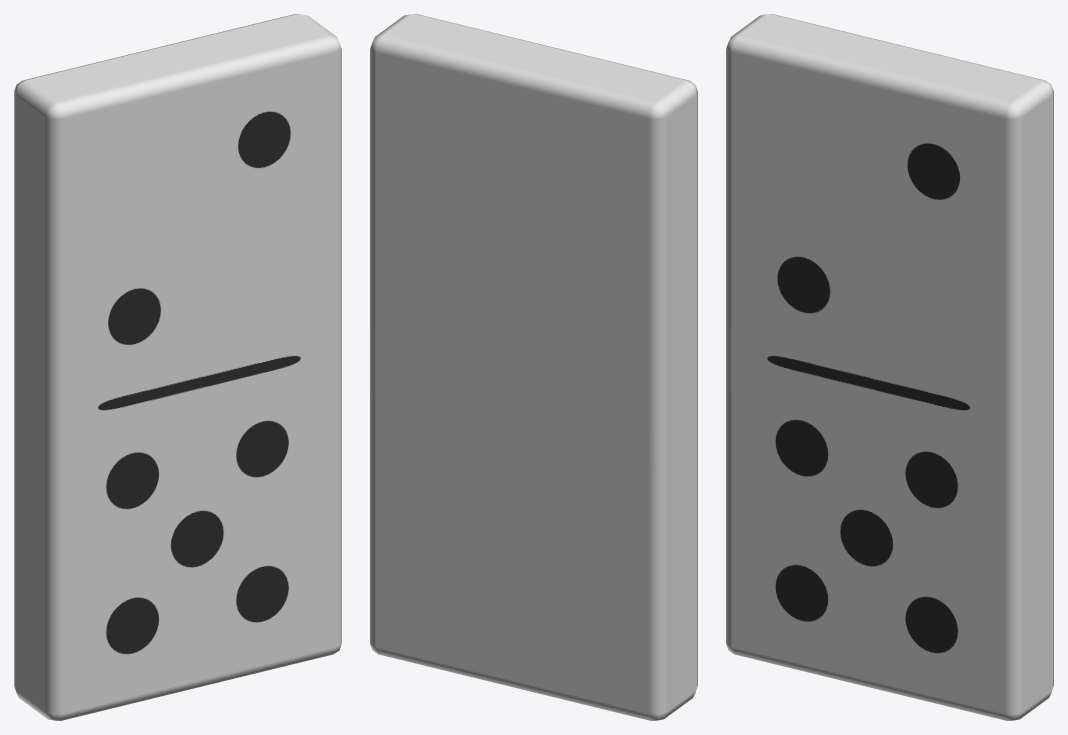
The picture shows the model from 3 angles, left to right: view 1: azimuth 30°, elevation 25°; view 2: azimuth 150°, elevation 25°; view 3: azimuth 330°, elevation 25°; orthographic projection.
Parts seen in each view (by area): view 1: Low; view 2: Low; view 3: Low.
Boxes of the visible parts, x1=… form: Low: x1=14, y1=14, x2=341, y2=720; Low: x1=370, y1=14, x2=697, y2=720; Low: x1=726, y1=14, x2=1053, y2=720.
Size of the model in its own units: 0.0254 by 0.0508 by 0.00635.
1 material, 1 textured.
